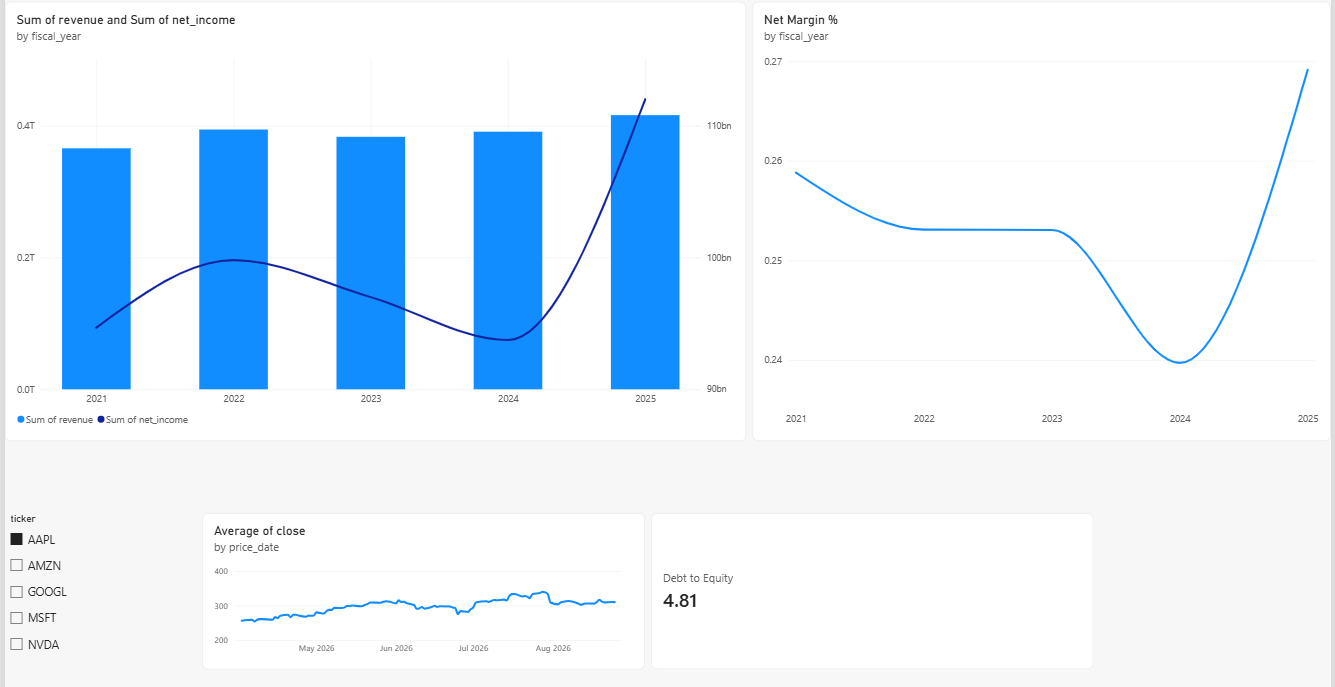

What the dashboard file says about the page in this screenshot:
{"tool":"powerbi","page":{"name":"Company Deep Dive","canvas":[1920,1080],"ordinal":1},"visuals":[{"type":"slicer","fields":{"Values":["investment_diligence companies.ticker"]},"box":[0,767.1,285,225],"z":0},{"type":"lineClusteredColumnComboChart","fields":{"Category":["investment_diligence financial_statements.fiscal_year"],"Y":["Sum(investment_diligence financial_statements.revenue)"],"Y2":["Sum(investment_diligence financial_statements.net_income)"]},"box":[0,27.5,1072.5,636.2],"z":1000},{"type":"lineChart","fields":{"Category":["investment_diligence financial_statements.fiscal_year"],"Y":["investment_diligence financial_statements.Net Margin %"]},"box":[1083,28,837,636],"z":2000},{"type":"lineChart","fields":{"Category":["investment_diligence stock_prices.price_date"],"Y":["Avg(investment_diligence stock_prices.close)"]},"box":[286,768,640,226],"z":3000},{"type":"cardVisual","fields":{"Data":["investment_diligence financial_statements.Debt to Equity"]},"box":[936,768,640,226],"z":3001}]}

Visuals, with their boxes on the page's 1920x1080 design canvas (x1, y1, x2, y2). These are canvas units, not pixel positions in the 1335x687 screenshot, which may show the page scaled, cropped or inside an application window:
slicer - investment_diligence companies.ticker: (left=0, top=767, right=285, bottom=992)
lineClusteredColumnComboChart - investment_diligence financial_statements.fiscal_year x Sum(investment_diligence financial_statements.revenue): (left=0, top=28, right=1072, bottom=664)
lineChart - investment_diligence financial_statements.fiscal_year x investment_diligence financial_statements.Net Margin %: (left=1083, top=28, right=1920, bottom=664)
lineChart - investment_diligence stock_prices.price_date x Avg(investment_diligence stock_prices.close): (left=286, top=768, right=926, bottom=994)
cardVisual - investment_diligence financial_statements.Debt to Equity: (left=936, top=768, right=1576, bottom=994)
